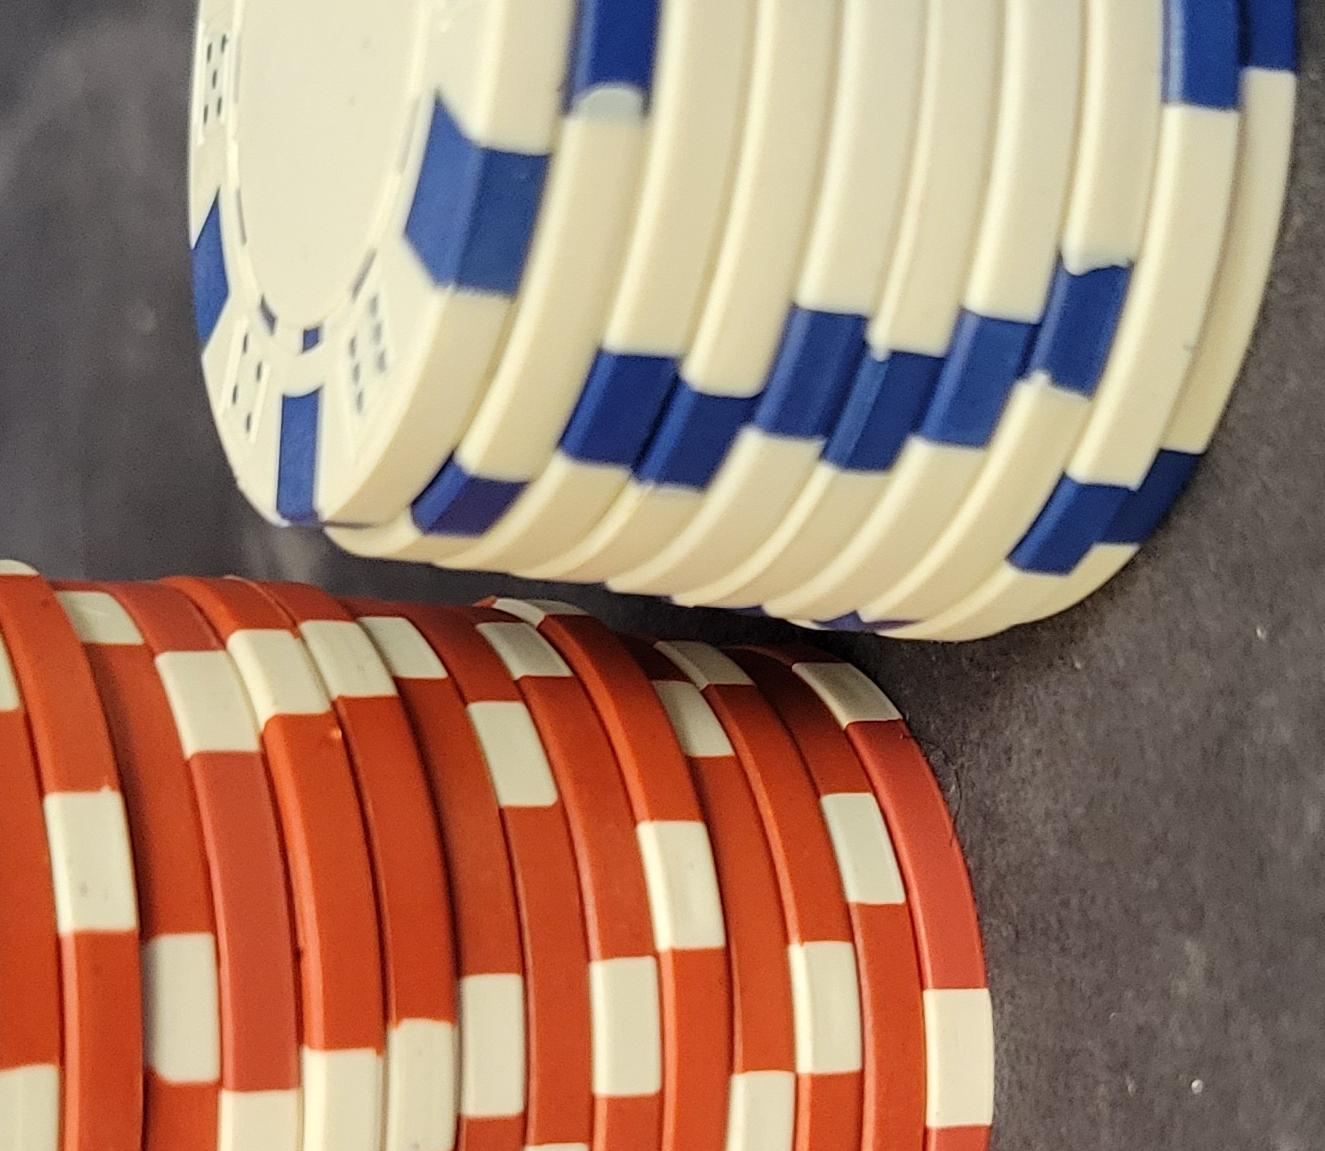Chip: (1, 199, 684, 1151)
